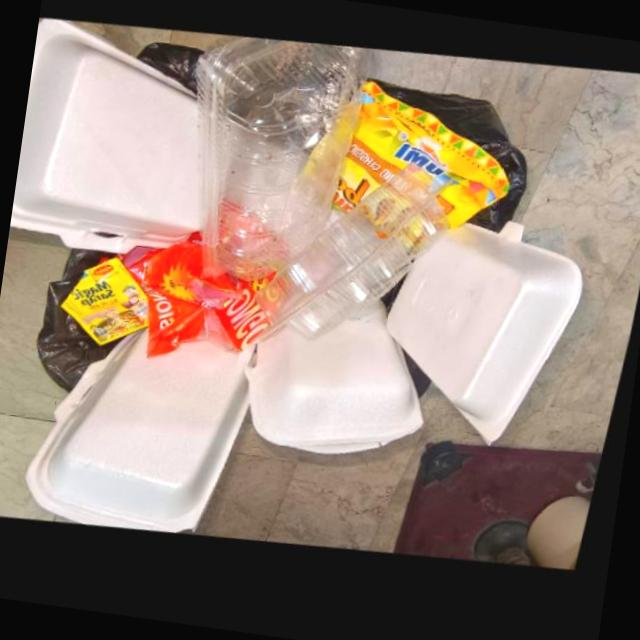bao_bi_thuc_pham: (335, 86, 511, 236), (125, 234, 278, 362)
goi_nhua_nho: (64, 259, 153, 348)
hop_nhua: (197, 40, 374, 285), (258, 170, 458, 348)
xop: (30, 329, 260, 538), (10, 18, 206, 256), (389, 229, 585, 454), (248, 306, 428, 461)
